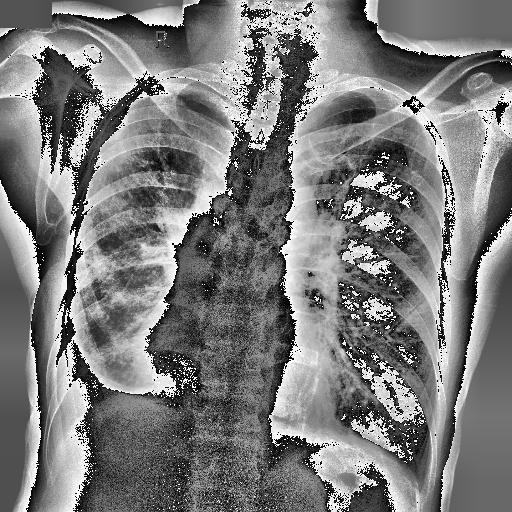10- Pleural effusion: (46, 258, 148, 457), (44, 312, 174, 416), (50, 290, 146, 419)
11- Pleural thickening: (90, 77, 247, 140), (136, 73, 248, 127), (96, 104, 128, 145)
5- ILD: (79, 100, 222, 388), (86, 145, 204, 377)
7- Lung Opacity: (86, 145, 204, 377), (92, 116, 182, 241)
